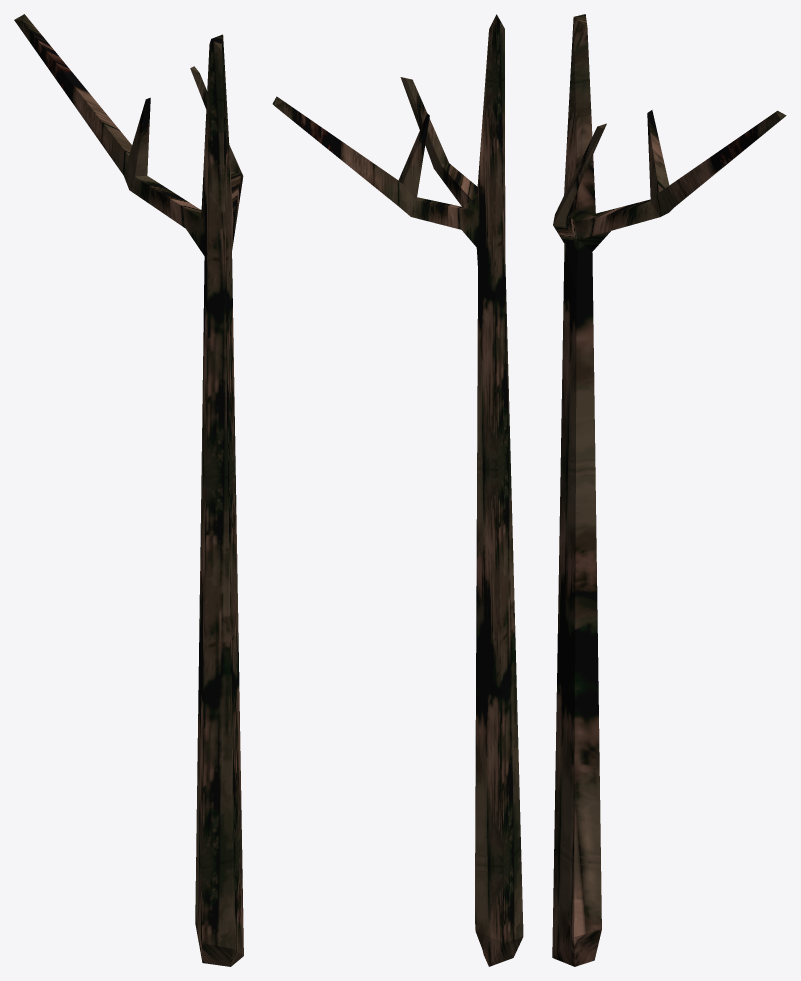
The picture shows the model from 3 angles, left to right: view 1: azimuth 90°, elevation 25°; view 2: azimuth 150°, elevation 25°; view 3: azimuth 270°, elevation 25°; orthographic projection.
Visible parts, largest first — view 1: BT_4; view 2: BT_4; view 3: BT_4.
Part boxes in pixels (x1=…): BT_4: x1=14, y1=14, x2=243, y2=966; BT_4: x1=272, y1=14, x2=523, y2=966; BT_4: x1=552, y1=14, x2=786, y2=966.
Bounding box in the file's own units: 3.92 × 24.83 × 5.58.
Materials: 1 (1 with a texture image).
